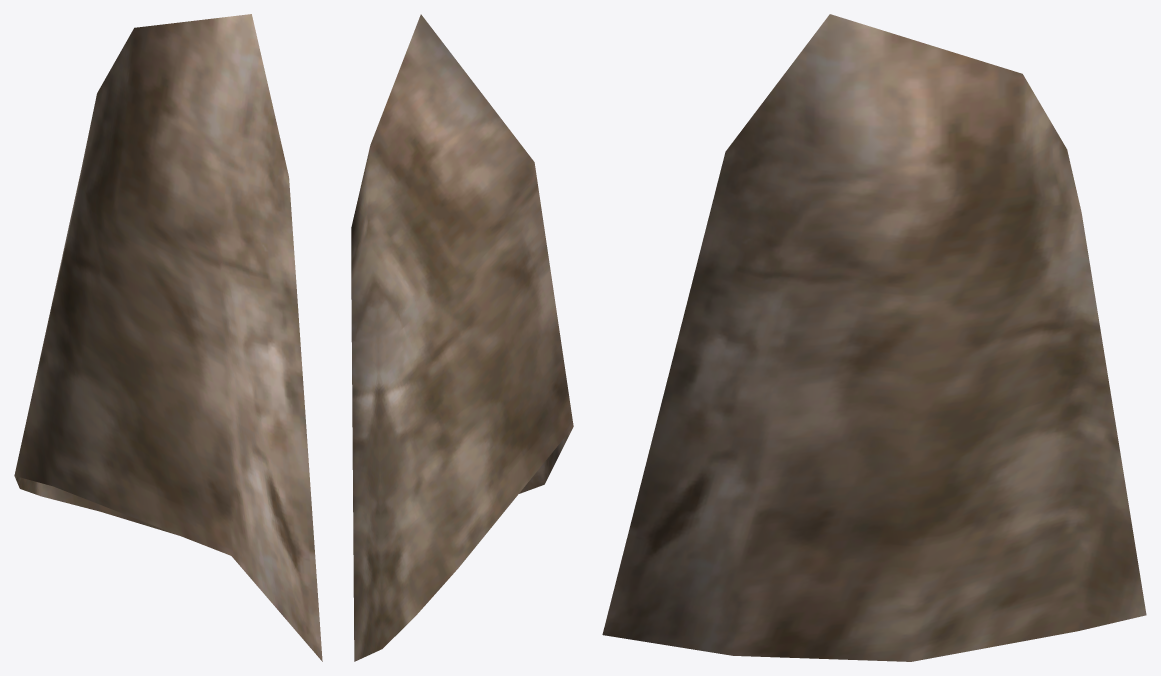
File: OVERHILL_A_01_ROCK28.fbx
3 renders of one model, left to right at view 1: azimuth 30°, elevation 25°; view 2: azimuth 150°, elevation 25°; view 3: azimuth 270°, elevation 25°, orthographic. The views are drawn at different scales.
Parts seen in each view (by area): view 1: OVERHILL_A_01_ROCK28; view 2: OVERHILL_A_01_ROCK28; view 3: OVERHILL_A_01_ROCK28.
Part boxes in pixels (box(x1,y1,x2,y2)): OVERHILL_A_01_ROCK28: box(14, 14, 322, 661); OVERHILL_A_01_ROCK28: box(351, 14, 573, 661); OVERHILL_A_01_ROCK28: box(602, 14, 1146, 661).
Bounding box in the file's own units: 7680 × 29929 × 23072.
Materials: 1 (1 with a texture image).
